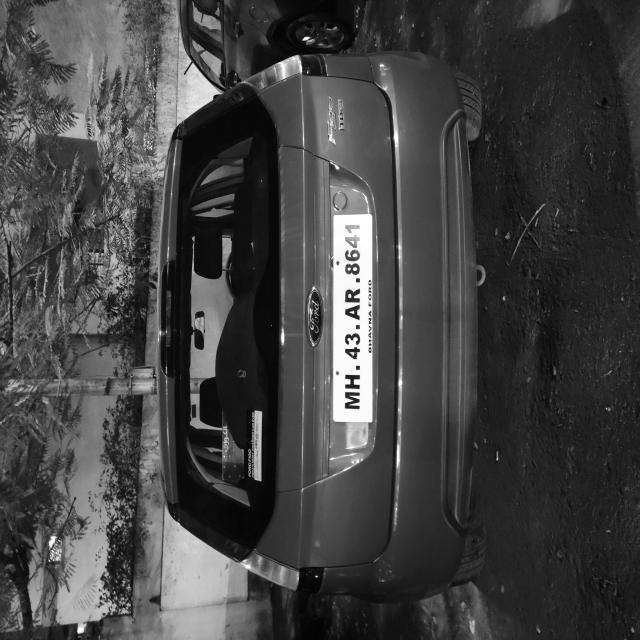car: (26, 207, 448, 640)
license-plate: (162, 440, 323, 506)
